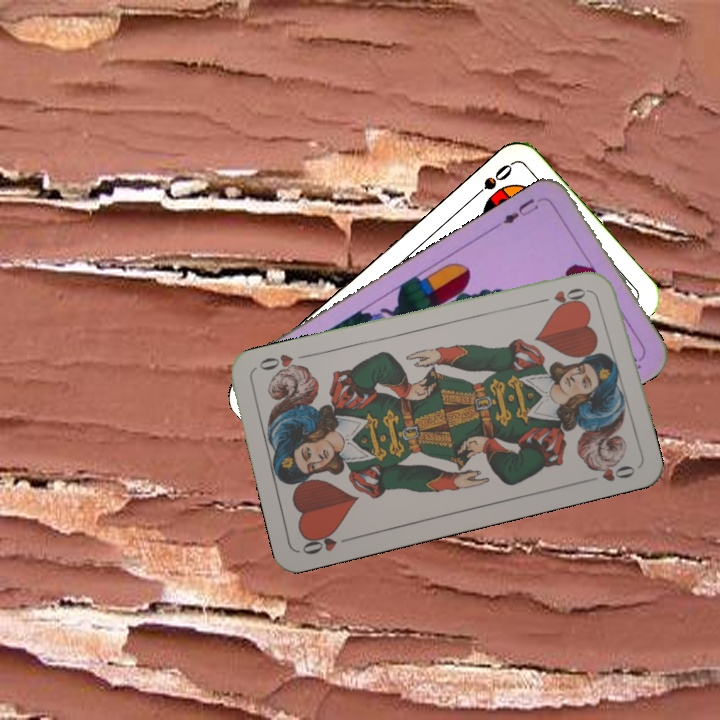EU: (499, 193, 548, 227)
HO: (298, 527, 356, 557), (535, 283, 594, 309)
SO: (466, 159, 515, 203)
